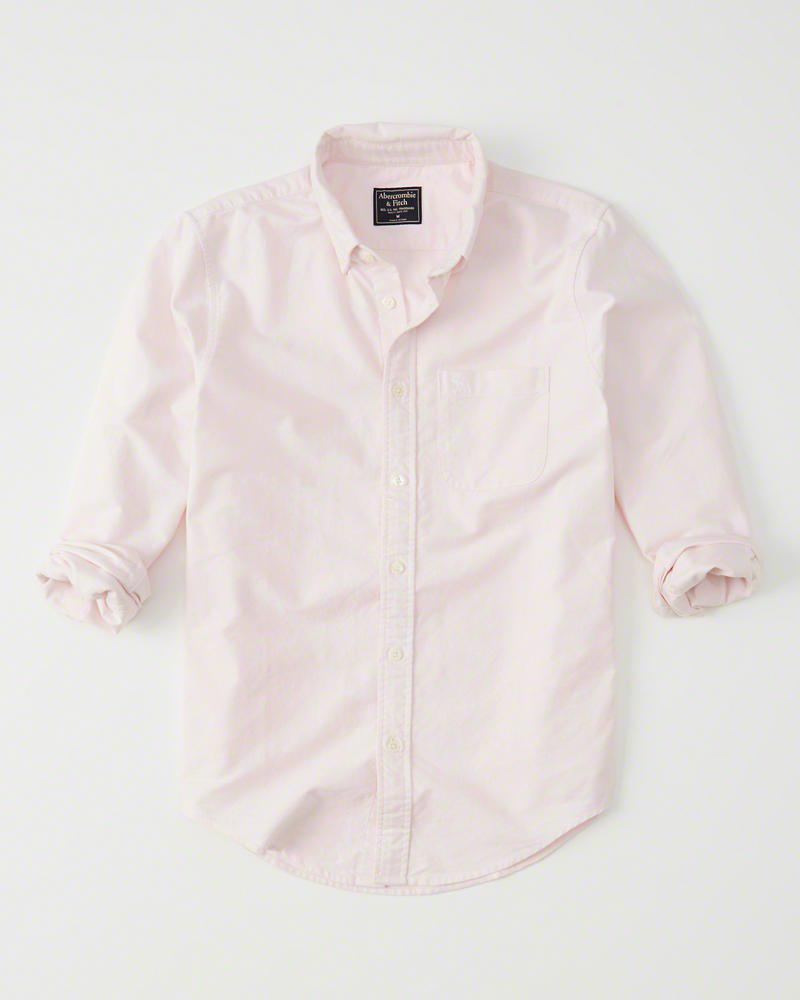teeshirt: (42, 121, 800, 856)
